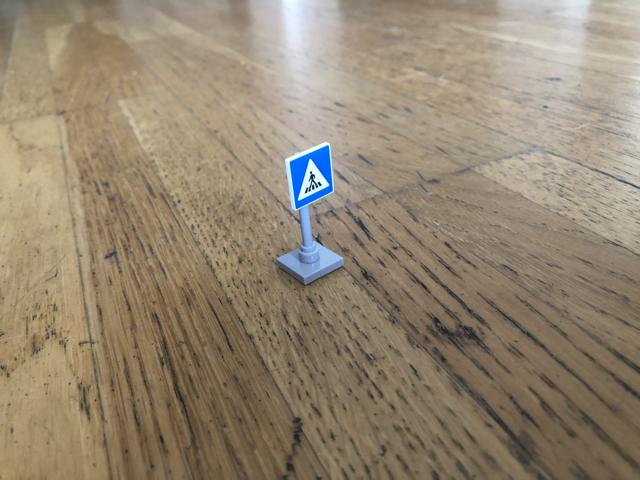fußgängerüberweg: (285, 143, 336, 209)
